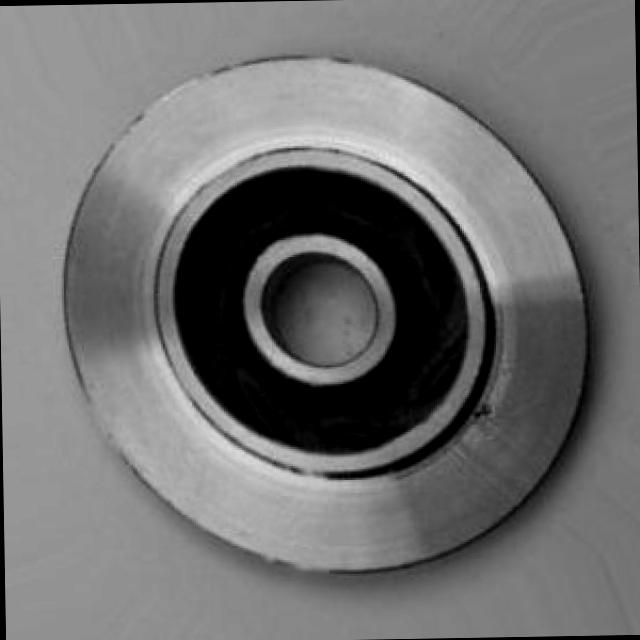Defect: (466, 393, 501, 430)
